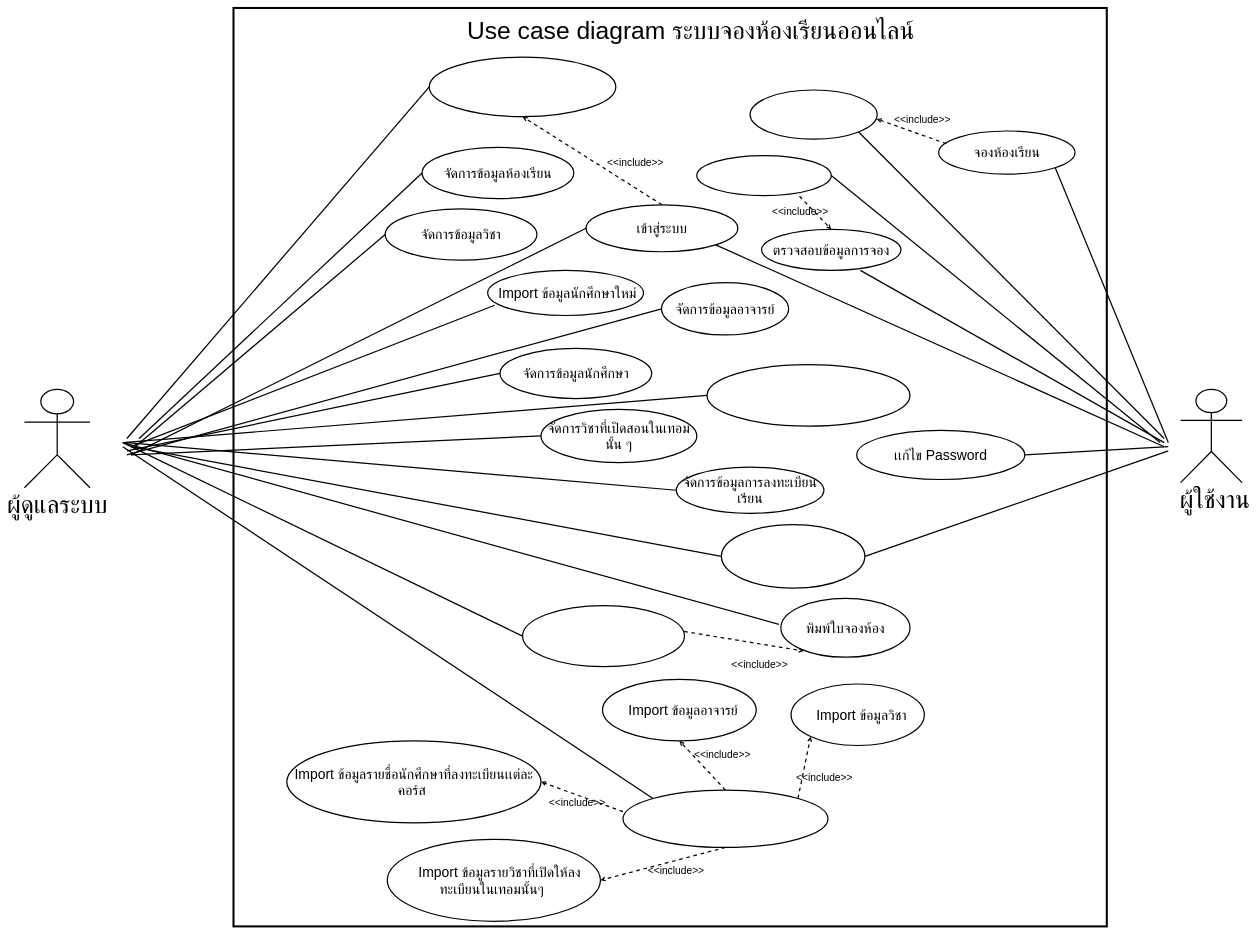
This 1257x934 diagram has some shape labels left out. The shapes that lost their labels are listed below. From the top down, each one's box as (x1, y1, x2, y2) in pixels, then its label:
(428, 56, 616, 117): ตรวจสอบ Username Password
(749, 89, 878, 140): ตรวจสอบวันเวลาที่จอง
(696, 155, 832, 196): ยกเลิกการจองห้องเรียน
(706, 364, 910, 427): จัดการวันเริ่มต้น และวันสิ้นสุดภาคการศึกษา
(721, 524, 865, 589): แสดงปฏิทินการใช้ห้องเรียน
(522, 605, 685, 667): ตรวจสอบคำร้องจองห้องเรียน
(622, 789, 828, 848): Import ข้อมูลการลงทะเบียนเรียน
